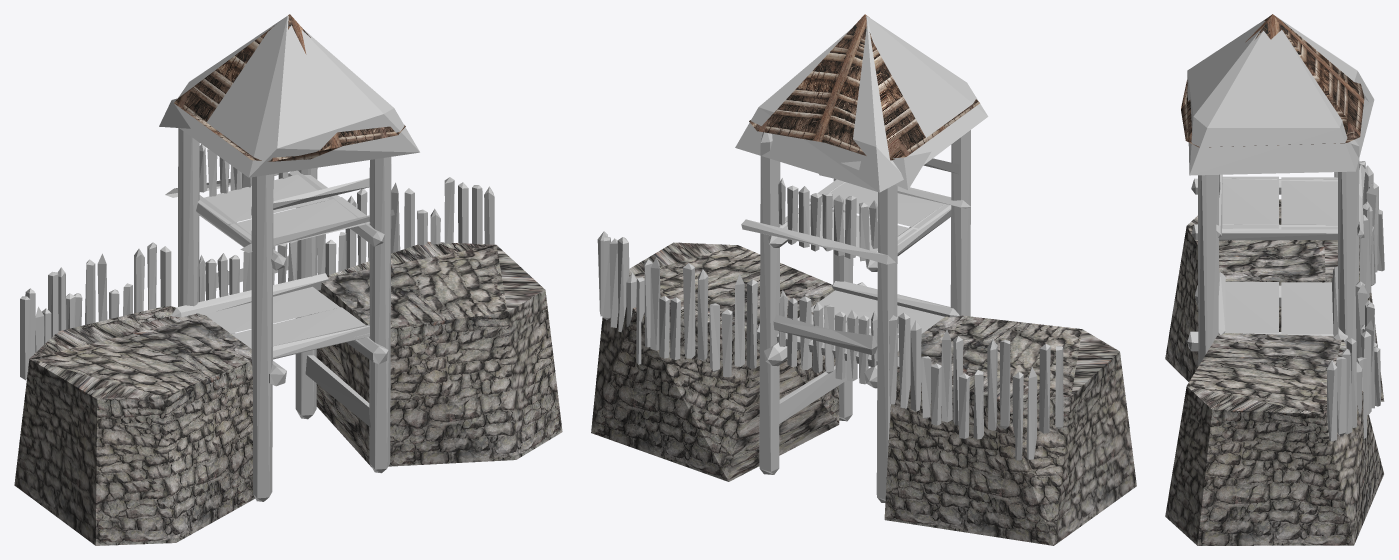
Rendered from TowerGate_1b_LOD3.fbx.
3 renders of one model, left to right at view 1: azimuth 30°, elevation 25°; view 2: azimuth 150°, elevation 25°; view 3: azimuth 270°, elevation 25°, orthographic. The views are drawn at different scales.
Parts seen in each view (by area): view 1: Cube_5, Cylinder_1, Cube, Cube_1; view 2: Cube_5, Cylinder_1, Cube, Cube_1; view 3: Cube_5, Cylinder_1, Cube, Cube_1.
Boxes of the visible parts, x1,y1,x2,y2 form: Cube_5: [14, 241, 562, 545]; Cylinder_1: [20, 128, 494, 501]; Cube: [159, 15, 419, 177]; Cube_1: [174, 14, 405, 161]; Cube_5: [591, 242, 1136, 545]; Cylinder_1: [597, 130, 1063, 502]; Cube: [735, 16, 988, 192]; Cube_1: [749, 14, 979, 160]; Cube_5: [1165, 199, 1384, 545]; Cylinder_1: [1187, 139, 1384, 441]; Cube: [1187, 16, 1374, 175]; Cube_1: [1181, 14, 1364, 147].
Size of the model in its own units: 1739 by 741 by 1578.
